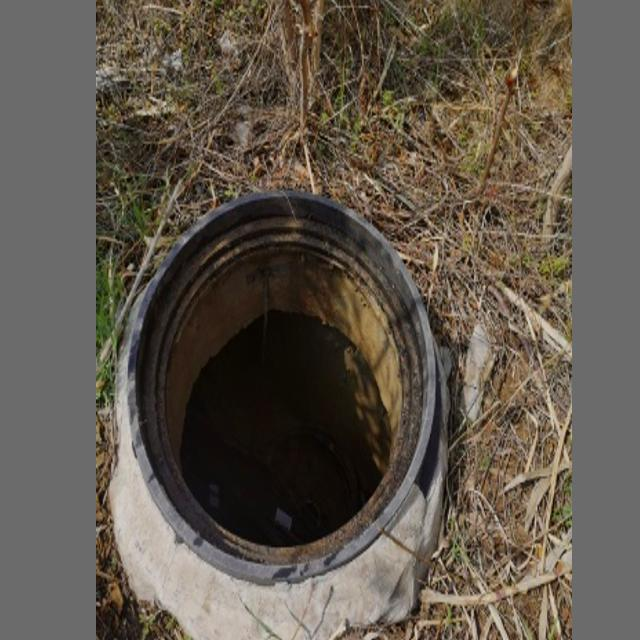lose: (125, 186, 437, 583)
